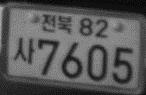0: (86, 43, 108, 81)
2: (94, 18, 109, 38)
5: (111, 45, 133, 84)
6: (61, 41, 82, 79)
7: (36, 37, 59, 75)
8: (79, 16, 93, 37)
사: (12, 36, 36, 65)
전북_H: (41, 13, 73, 35)
